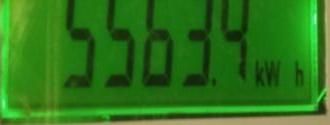.: (252, 59, 306, 90)
0: (209, 76, 218, 88)
4: (184, 0, 213, 87)
5: (220, 0, 253, 82)
6: (60, 0, 100, 94), (106, 0, 137, 91)
7: (143, 0, 175, 89)
